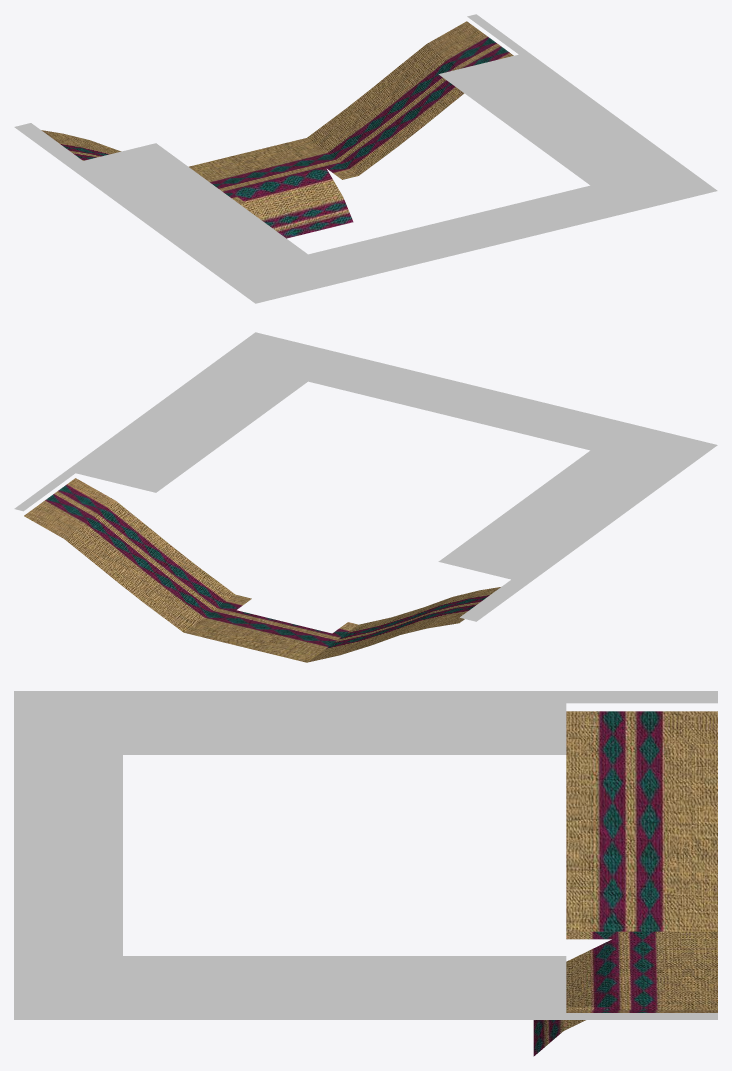
The model's file is House_missingbits.fbx.
3 renders of one model, top to bottom at view 1: azimuth 30°, elevation 25°; view 2: azimuth 150°, elevation 25°; view 3: azimuth 270°, elevation 25°, orthographic. The views are drawn at different scales.
Visible parts, largest first — view 1: Floor1_Foyer_BalconyRoof, StairPart3; view 2: Floor1_Foyer_BalconyRoof, StairPart3; view 3: Floor1_Foyer_BalconyRoof, StairPart3.
Boxes of the visible parts, box(x1,y1,x2,y2) form: Floor1_Foyer_BalconyRoof: box(14, 14, 717, 303); StairPart3: box(41, 21, 513, 238); Floor1_Foyer_BalconyRoof: box(14, 332, 717, 621); StairPart3: box(24, 478, 500, 662); Floor1_Foyer_BalconyRoof: box(14, 691, 717, 1019); StairPart3: box(533, 711, 717, 1056).
Size of the model in its own units: 1540 by 370 by 1393.
